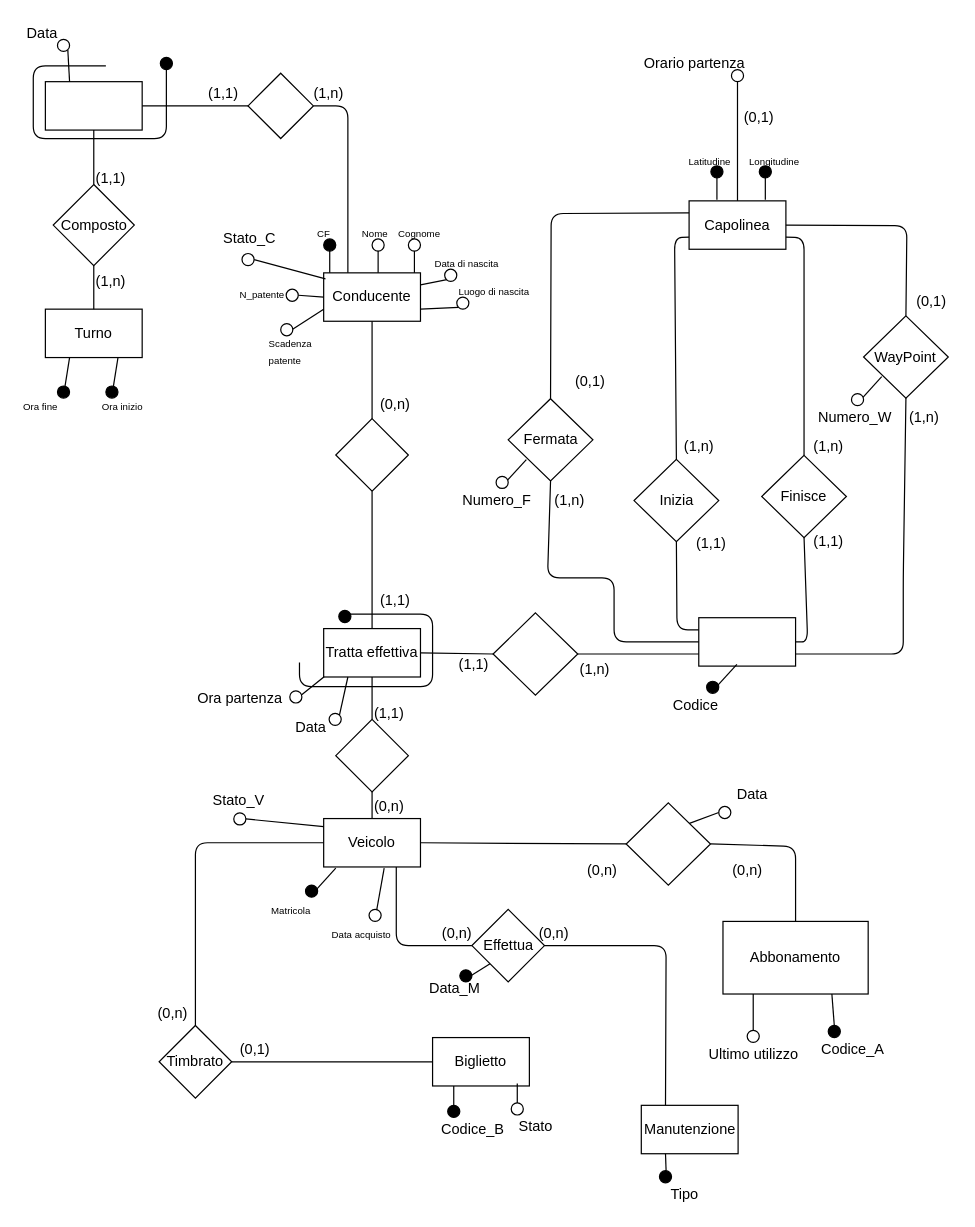
The diagram is 975 pixels wide and 1227 high, and some of its shapes have lost their labels. The shapes that lost their labels are listed below. From the top down, each one's centre as x and y in pixels, then its label:
At point (93, 105): "Turno effettivo".
At point (280, 105): "Lavora".
At point (371, 454): "Occupato".
At point (535, 653): "Occorrenza".
At point (747, 641): "Tratta".
At point (371, 755): "Coperta".
At point (668, 843): "Convalidato".
